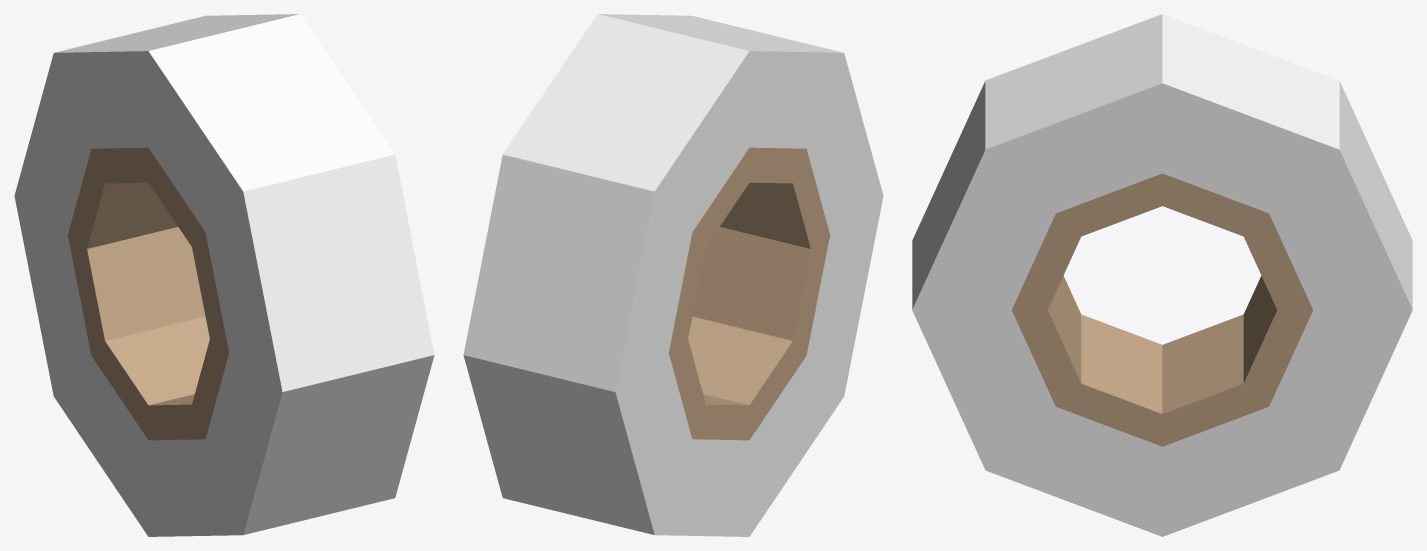
The model's file is paperRollWheel.dae.
3 views of the same model, side by side, from view 1: azimuth 30°, elevation 25°; view 2: azimuth 150°, elevation 25°; view 3: azimuth 270°, elevation 25° (orthographic). The views are drawn at different scales.
Visible parts, largest first — view 1: polySurface2; view 2: polySurface2; view 3: polySurface2.
Part boxes in pixels (x1=…): polySurface2: x1=14, y1=14, x2=434, y2=536; polySurface2: x1=463, y1=14, x2=883, y2=536; polySurface2: x1=912, y1=14, x2=1412, y2=536.
Size of the model in its own units: 19.89 by 60.75 by 60.75.
Materials: 1 (1 with a texture image).
